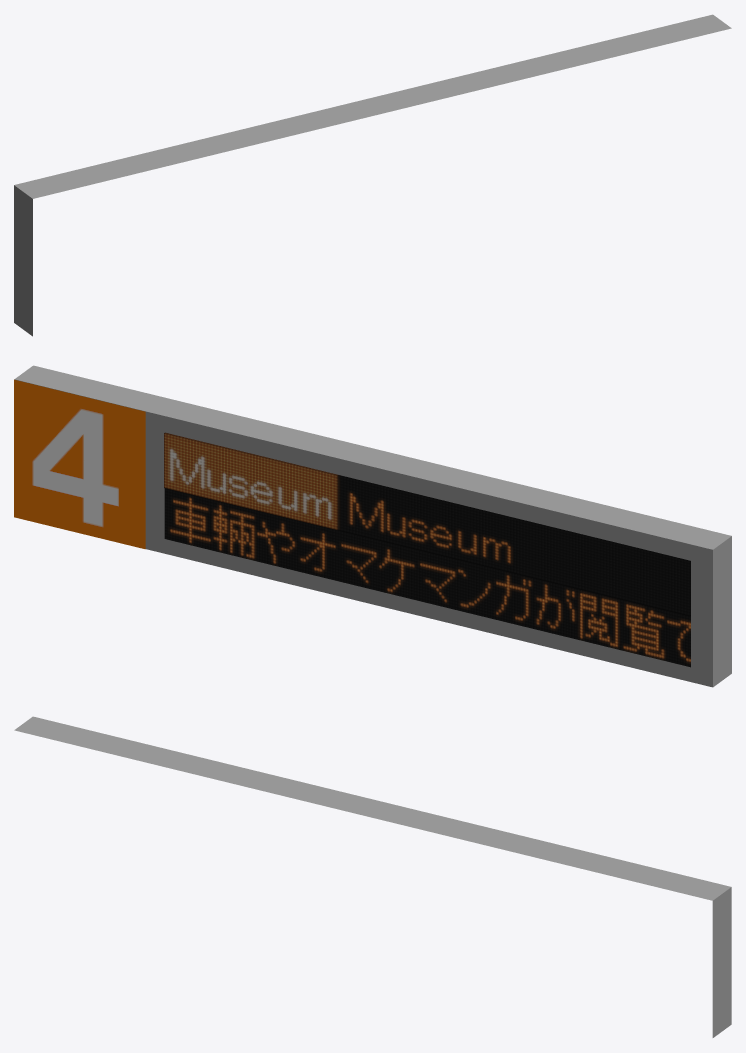
File: MENU04.glb
The picture shows the model from 3 angles, top to bottom: view 1: azimuth 30°, elevation 25°; view 2: azimuth 150°, elevation 25°; view 3: azimuth 330°, elevation 25°; orthographic projection.
Parts seen in each view (by area): view 1: BOX4; view 2: BOX4, Btl_E3; view 3: BOX4.
Boxes of the visible parts, left/top/right/bottom form: BOX4: left=14, top=14, right=731, bottom=336; BOX4: left=14, top=365, right=731, bottom=687; Btl_E3: left=164, top=433, right=690, bottom=616; BOX4: left=14, top=716, right=731, bottom=1037.
Size of the model in its own units: 26.55 by 5 by 1.35.
Materials: 5 (5 with a texture image).
